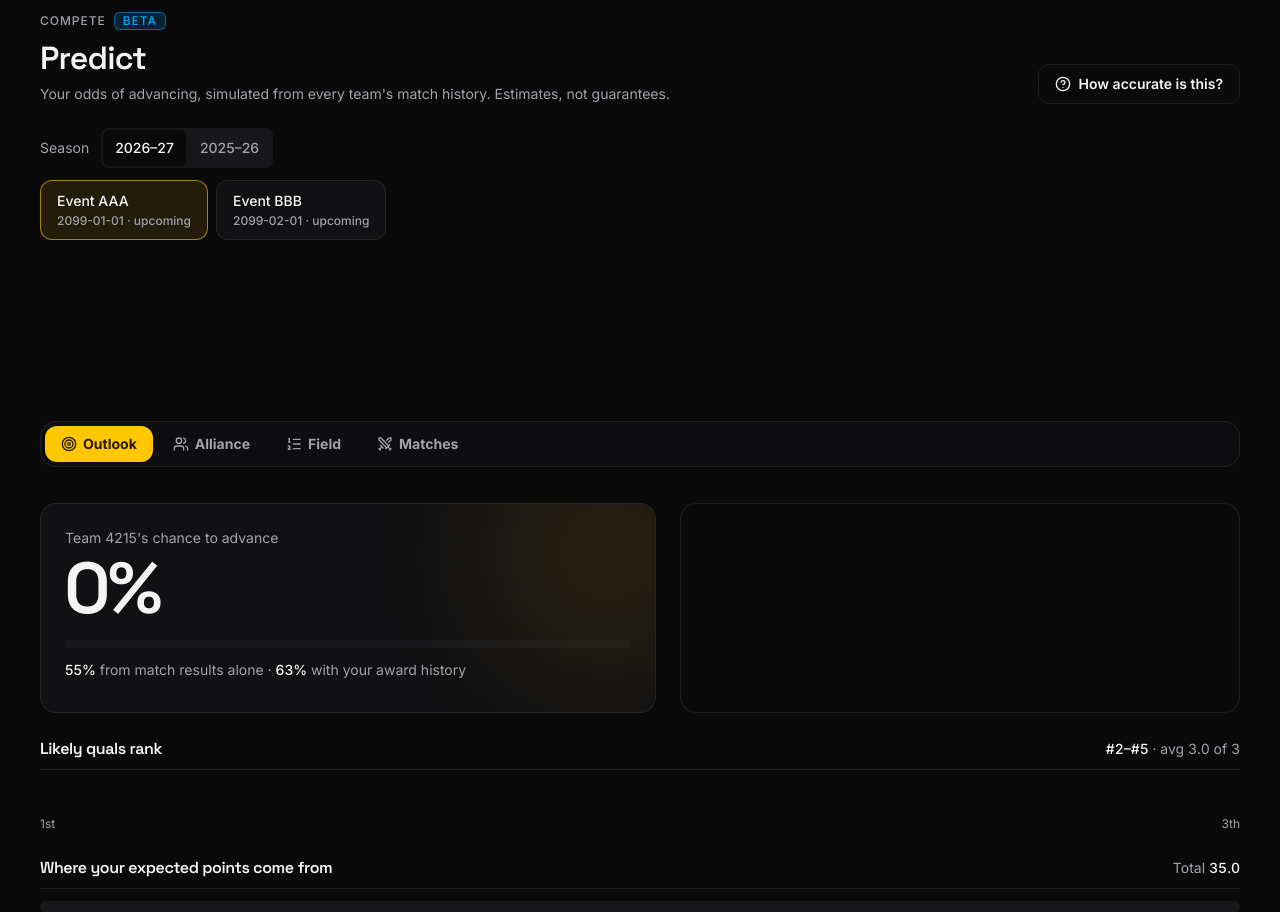
Scenario: Modern Predict › switching events hides the old forecast while the new one loads
Expected: the text "63%" is shown, left=276, top=661, right=307, bottom=678
Click the radio button labelled "Event BBB 2099-02-01 · upcoming" at (301, 210), box left=216, top=180, right=386, bottom=240
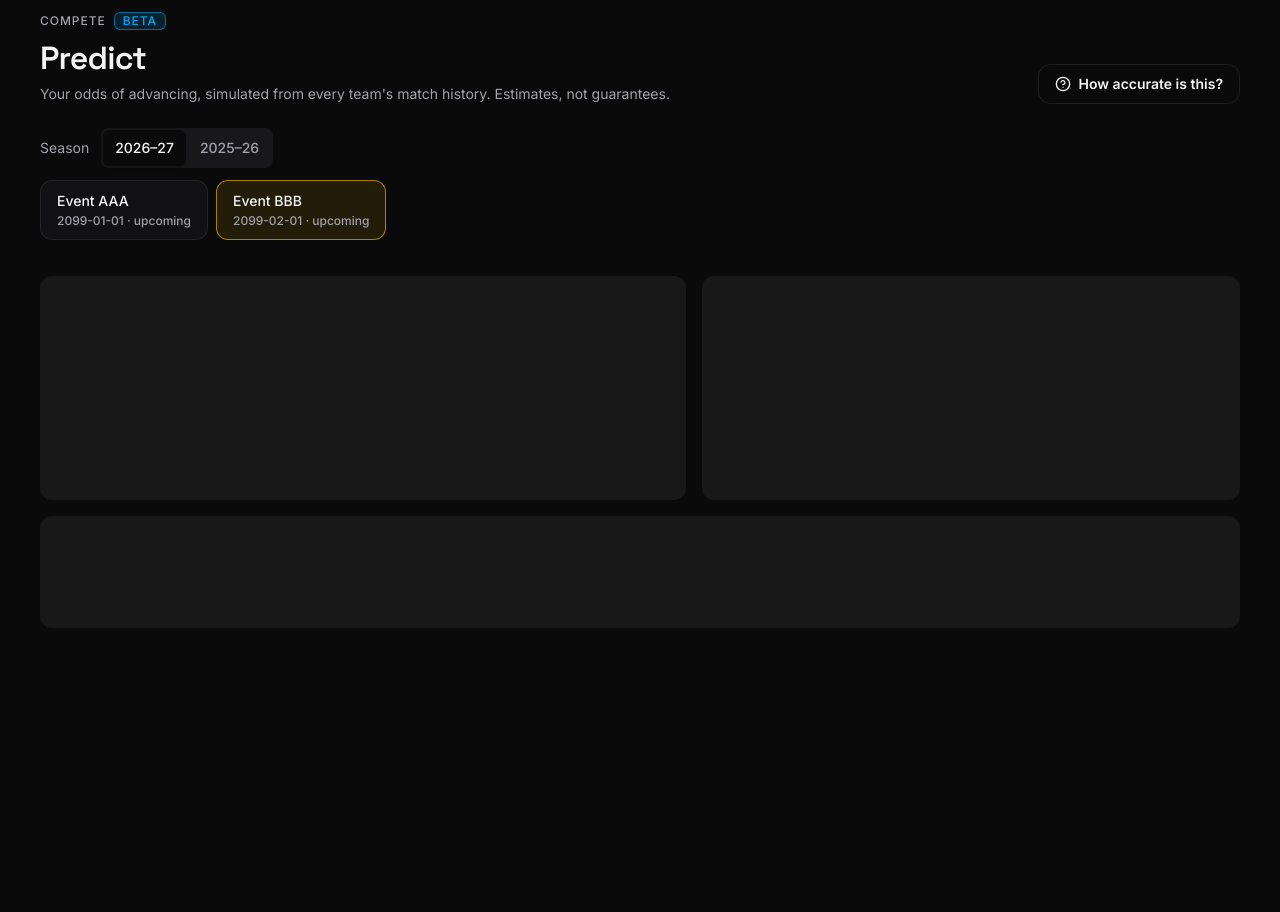
Expected: the text "63%" is gone
